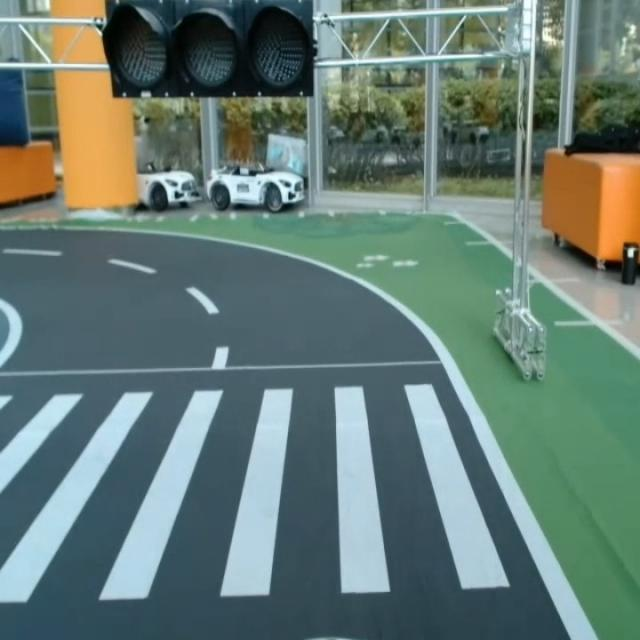traffic-light: (94, 0, 318, 99)
